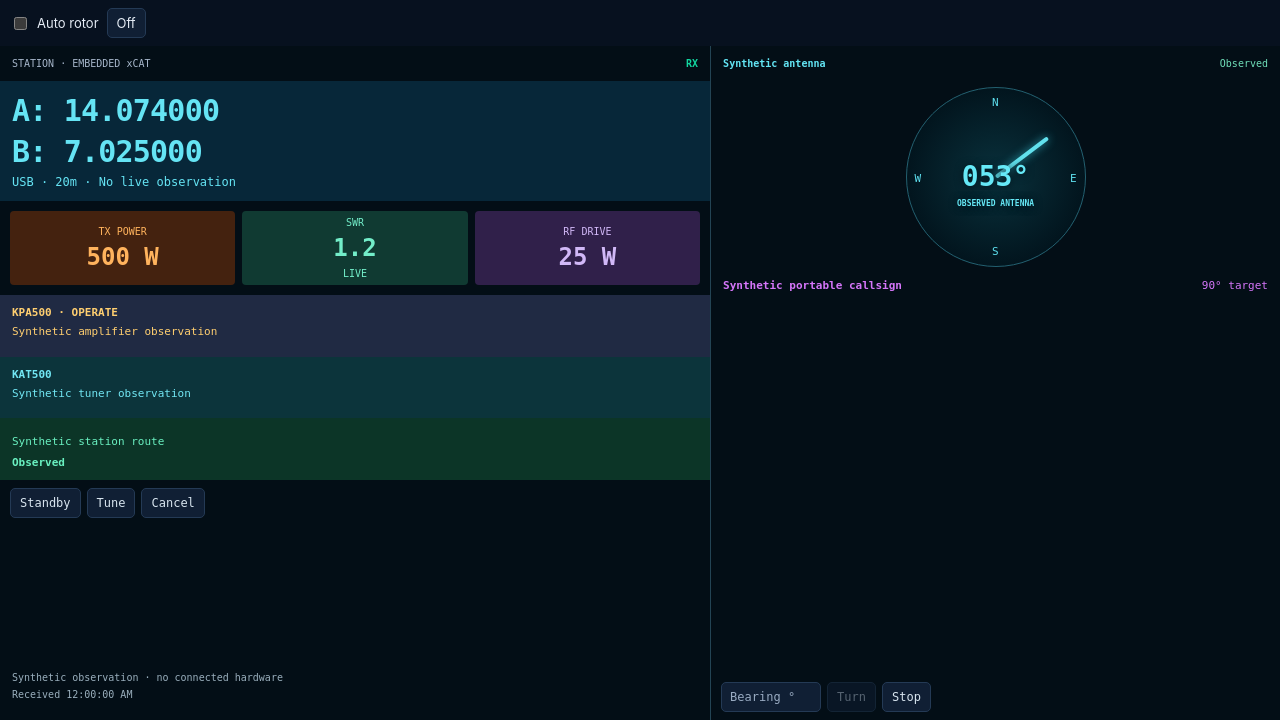
Test: routes the default Monitor Turn through its injected durable manual rotor session
In the number field named "Monitor rotor bearing": [771, 697] box [721, 682, 821, 712], type "135"
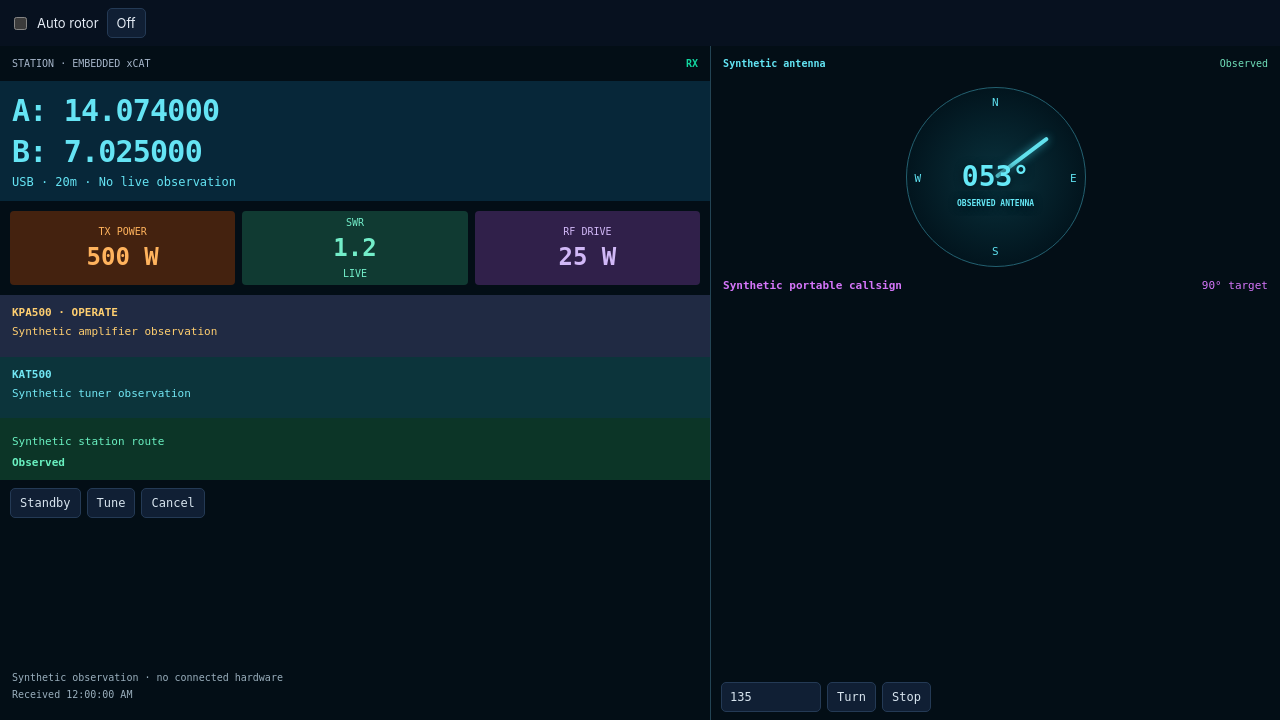
Click the button "Turn": [852, 697] box [827, 682, 876, 712]
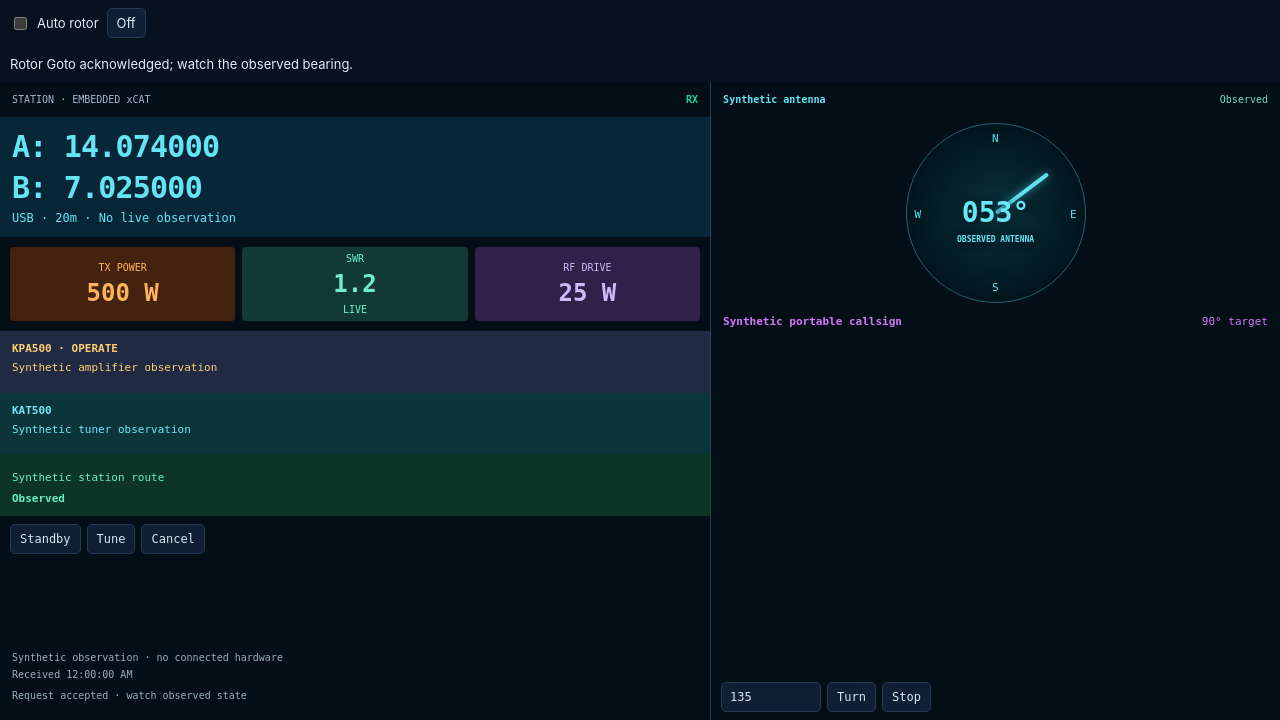
Result: the text "Request accepted · watch observed state" is shown at [12, 690, 247, 701]
